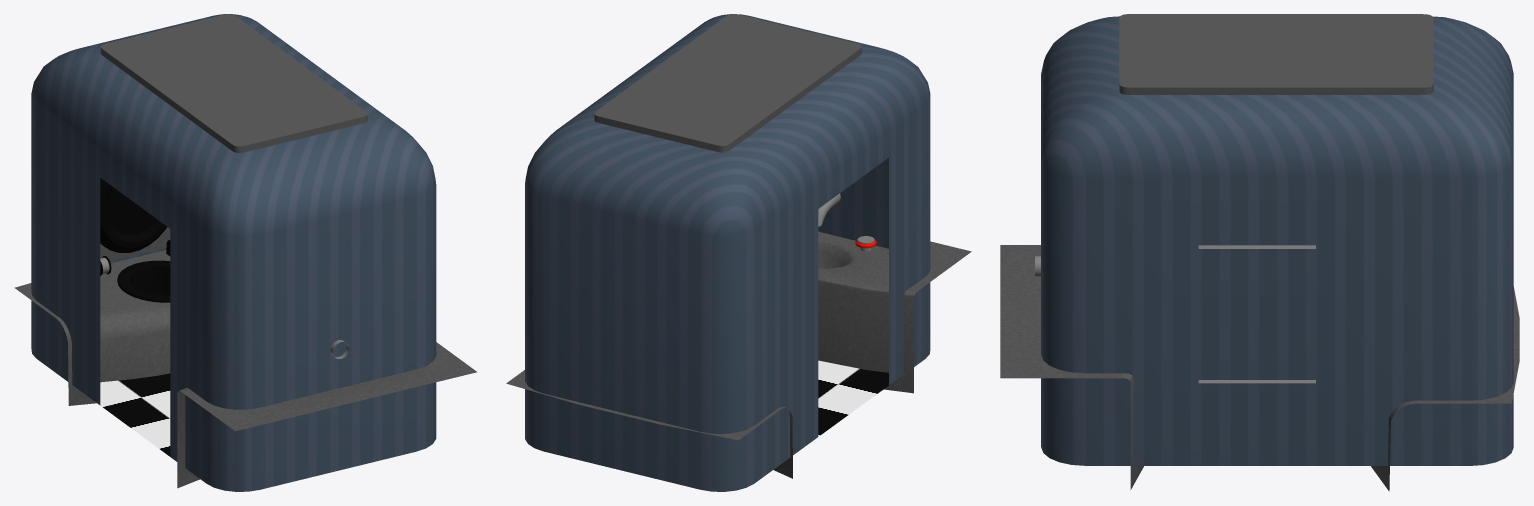
The model's file is RS_toilet.fbx.
The picture shows the model from 3 angles, left to right: view 1: azimuth 30°, elevation 25°; view 2: azimuth 150°, elevation 25°; view 3: azimuth 270°, elevation 25°; orthographic projection. The views are drawn at different scales.
Visible parts, largest first — view 1: RS_toilet; view 2: RS_toilet; view 3: RS_toilet.
Part boxes in pixels (x1,y1,x2,y2): RS_toilet: [14, 14, 477, 491]; RS_toilet: [506, 14, 971, 491]; RS_toilet: [1000, 14, 1519, 491].
Bounding box in the file's own units: 230 × 304 × 380.
